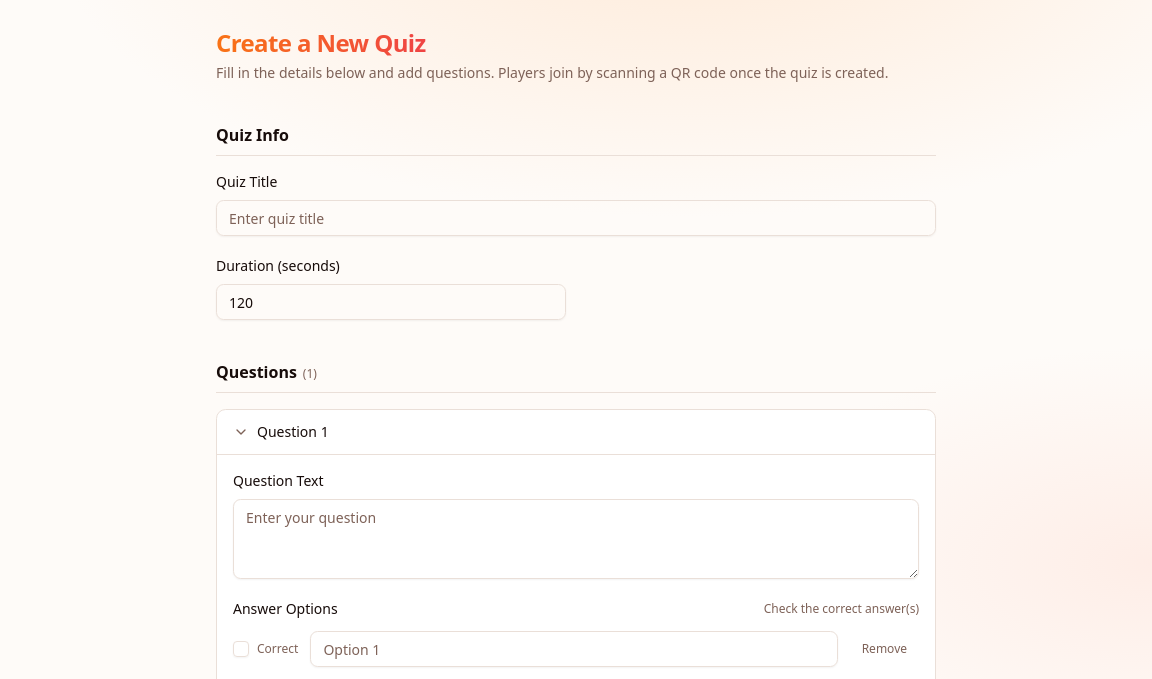
it: QuizForm › shows error when title is too short
This screenshot has width=1152, height=679.
Type "AB" into the field labelled "Quiz Title" at point(576, 218), box [216,200,936,236]
(page scrolled)
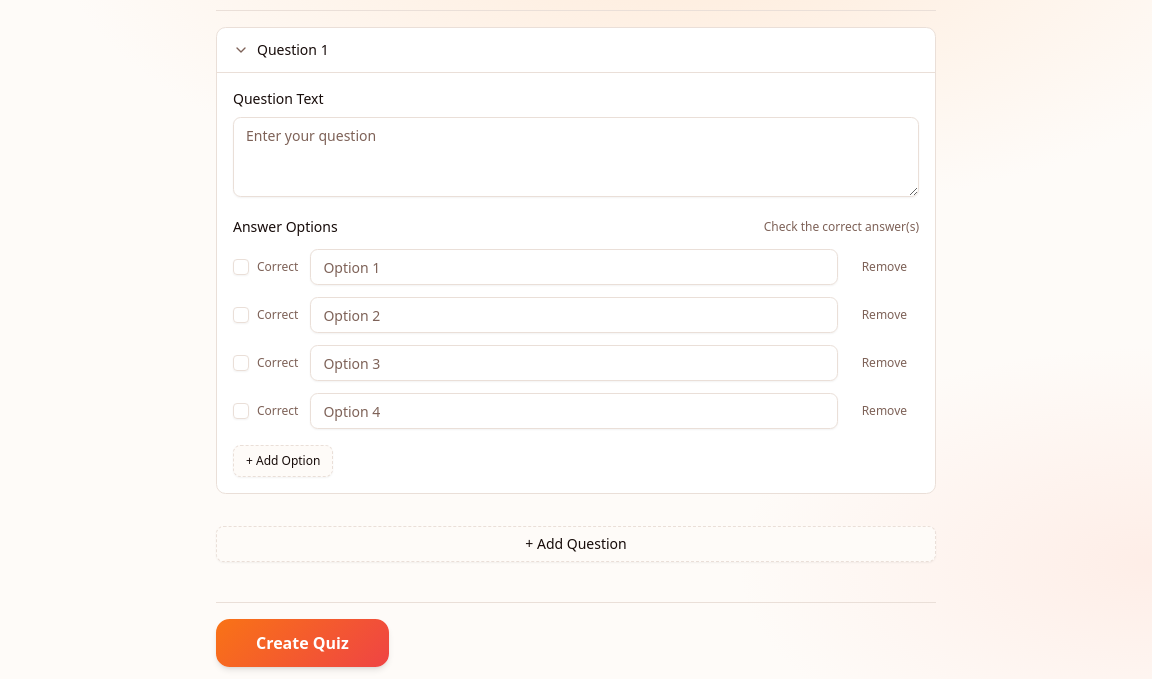
Click the button "Create Quiz" at point(302, 643), box [216,619,389,667]
(page scrolled)
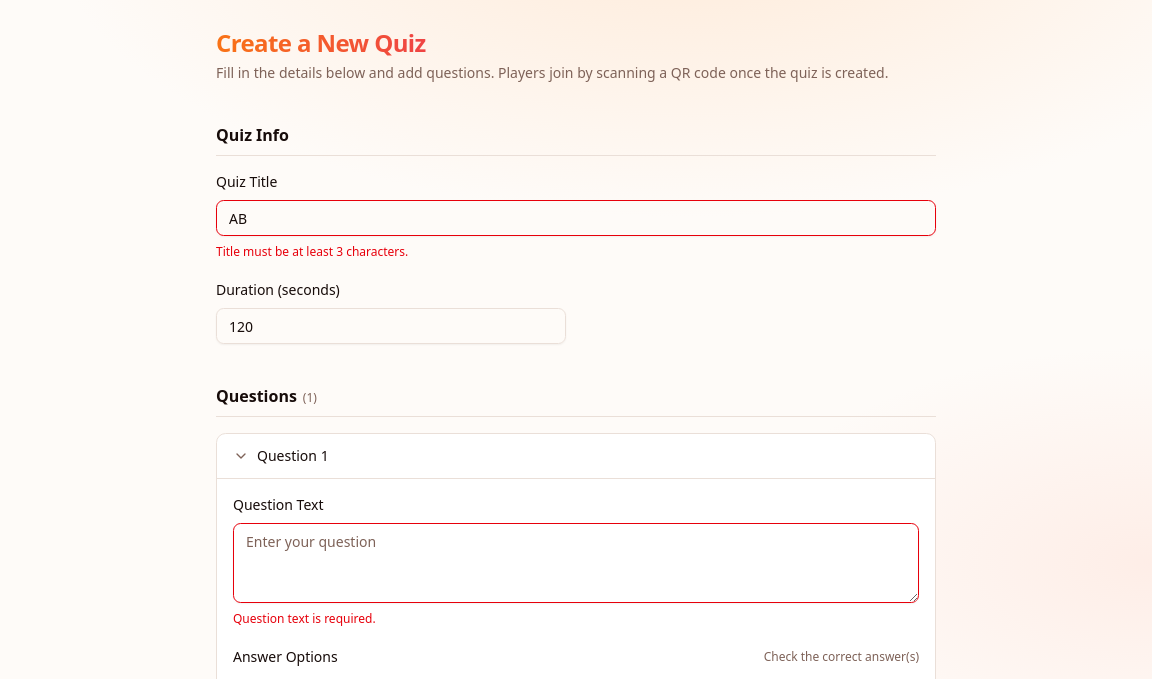
Expected: the text "Title must be at least 3 characters." is shown, [216,243,408,260]
